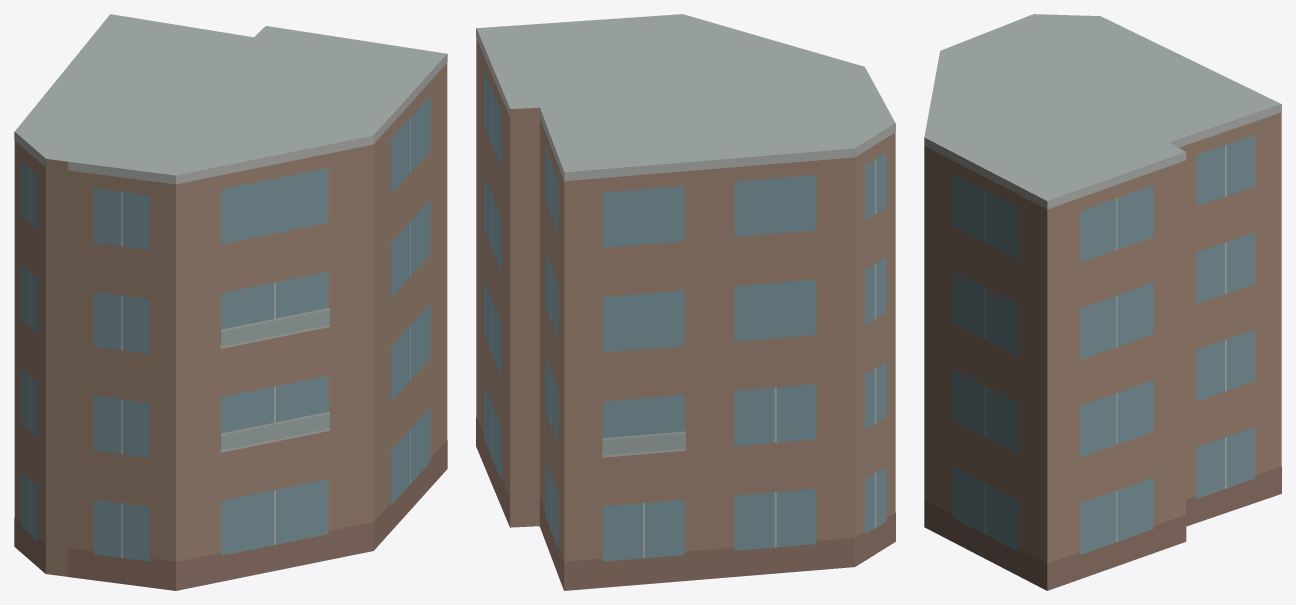
The model's file is survey-upis-32616551.glb.
The picture shows the model from 3 angles, left to right: view 1: azimuth 30°, elevation 25°; view 2: azimuth 150°, elevation 25°; view 3: azimuth 270°, elevation 25°; orthographic projection. The views are drawn at different scales.
Parts seen in each view (by area): view 1: survey-upis-32616551.tmp; view 2: survey-upis-32616551.tmp; view 3: survey-upis-32616551.tmp.
Boxes of the visible parts, x1,y1,x2,y2 form: survey-upis-32616551.tmp: (14, 14, 447, 590); survey-upis-32616551.tmp: (476, 14, 895, 590); survey-upis-32616551.tmp: (924, 14, 1281, 590).
Bounding box in the file's own units: 11.86 × 11.5 × 9.57.
